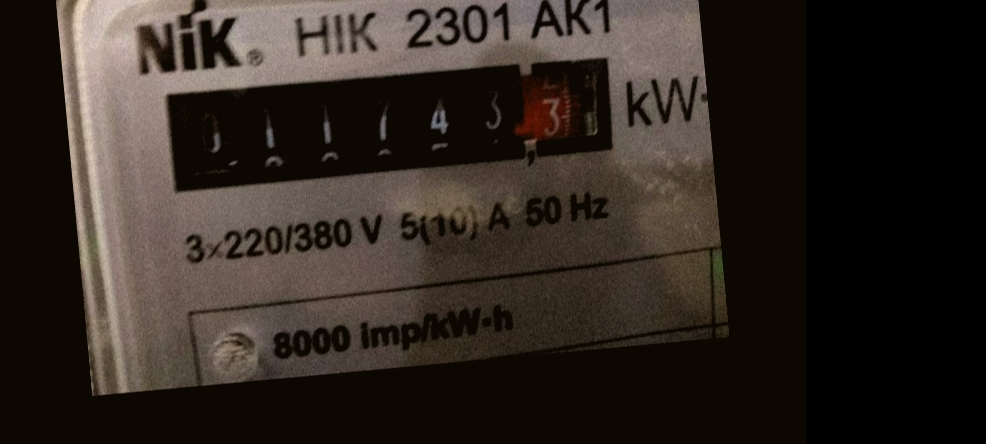0: (194, 107, 227, 156)
1: (313, 97, 338, 147), (258, 103, 280, 152)
3: (477, 84, 509, 133), (538, 93, 566, 139)
4: (423, 88, 455, 138)
7: (369, 94, 397, 144)
screen: (149, 43, 624, 203)
